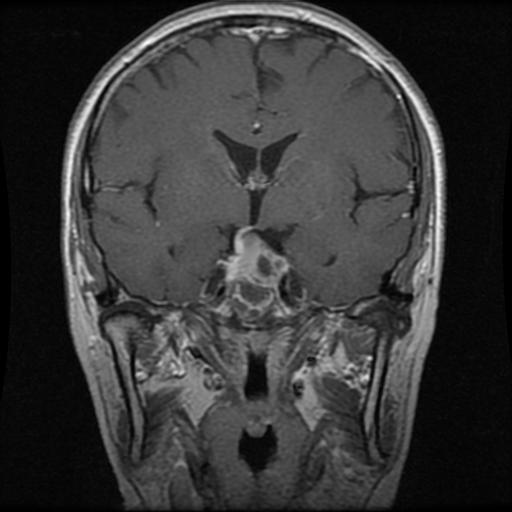Pituirity_tumour: (222, 225, 290, 322)
